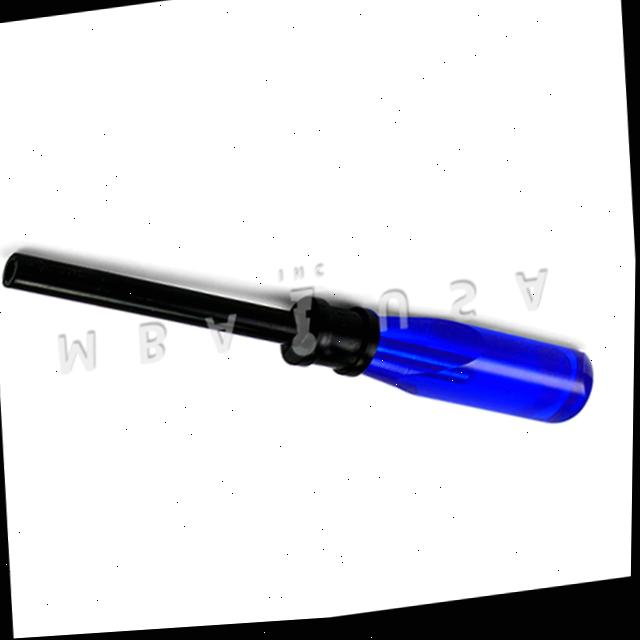ice pick: (0, 170, 600, 499)
